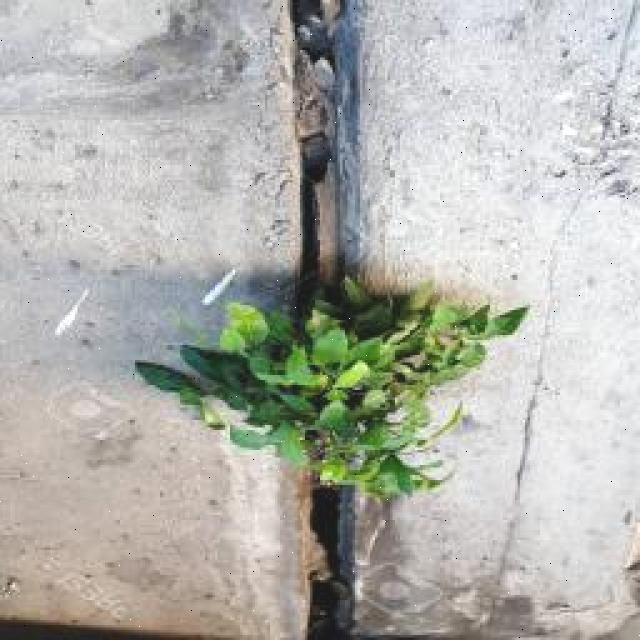crack: (484, 7, 640, 632), (267, 14, 332, 625), (314, 10, 374, 622), (286, 0, 349, 314), (491, 384, 545, 607), (591, 0, 640, 167), (266, 142, 308, 263)
dampens: (598, 99, 618, 147)
dampness: (0, 365, 288, 632), (113, 0, 253, 106)
vegetation: (134, 271, 530, 504), (135, 340, 296, 439), (209, 305, 339, 415), (397, 301, 512, 387), (221, 301, 269, 350)
